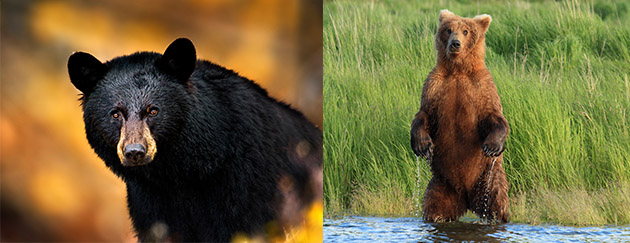bear: (64, 34, 201, 170), (434, 6, 494, 61)
